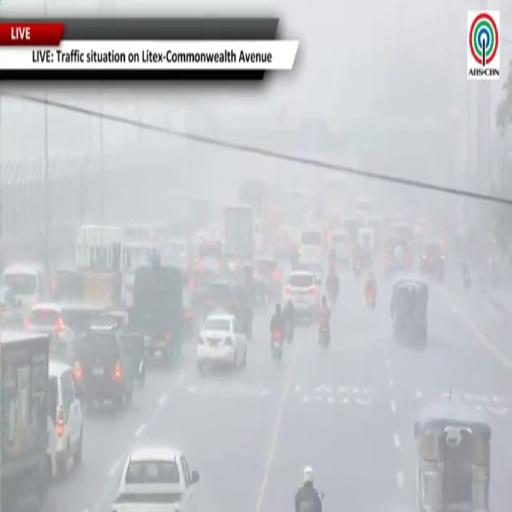car: (112, 446, 199, 511), (77, 326, 134, 408), (26, 303, 102, 364), (47, 361, 83, 477), (203, 278, 253, 340), (197, 313, 247, 371), (26, 303, 74, 361), (2, 264, 50, 311), (285, 270, 321, 322), (384, 236, 411, 277), (254, 256, 281, 296), (420, 240, 444, 280), (0, 287, 23, 328), (163, 239, 188, 276), (332, 231, 351, 268)
jeepney: (414, 402, 491, 511)
motorcycle: (272, 330, 283, 361), (318, 322, 330, 349), (327, 282, 338, 305), (366, 288, 375, 311), (353, 258, 362, 278), (286, 323, 294, 343), (463, 272, 471, 290)
truck: (0, 330, 49, 511), (129, 258, 184, 363), (224, 205, 254, 264), (238, 179, 267, 219), (191, 198, 210, 231)
